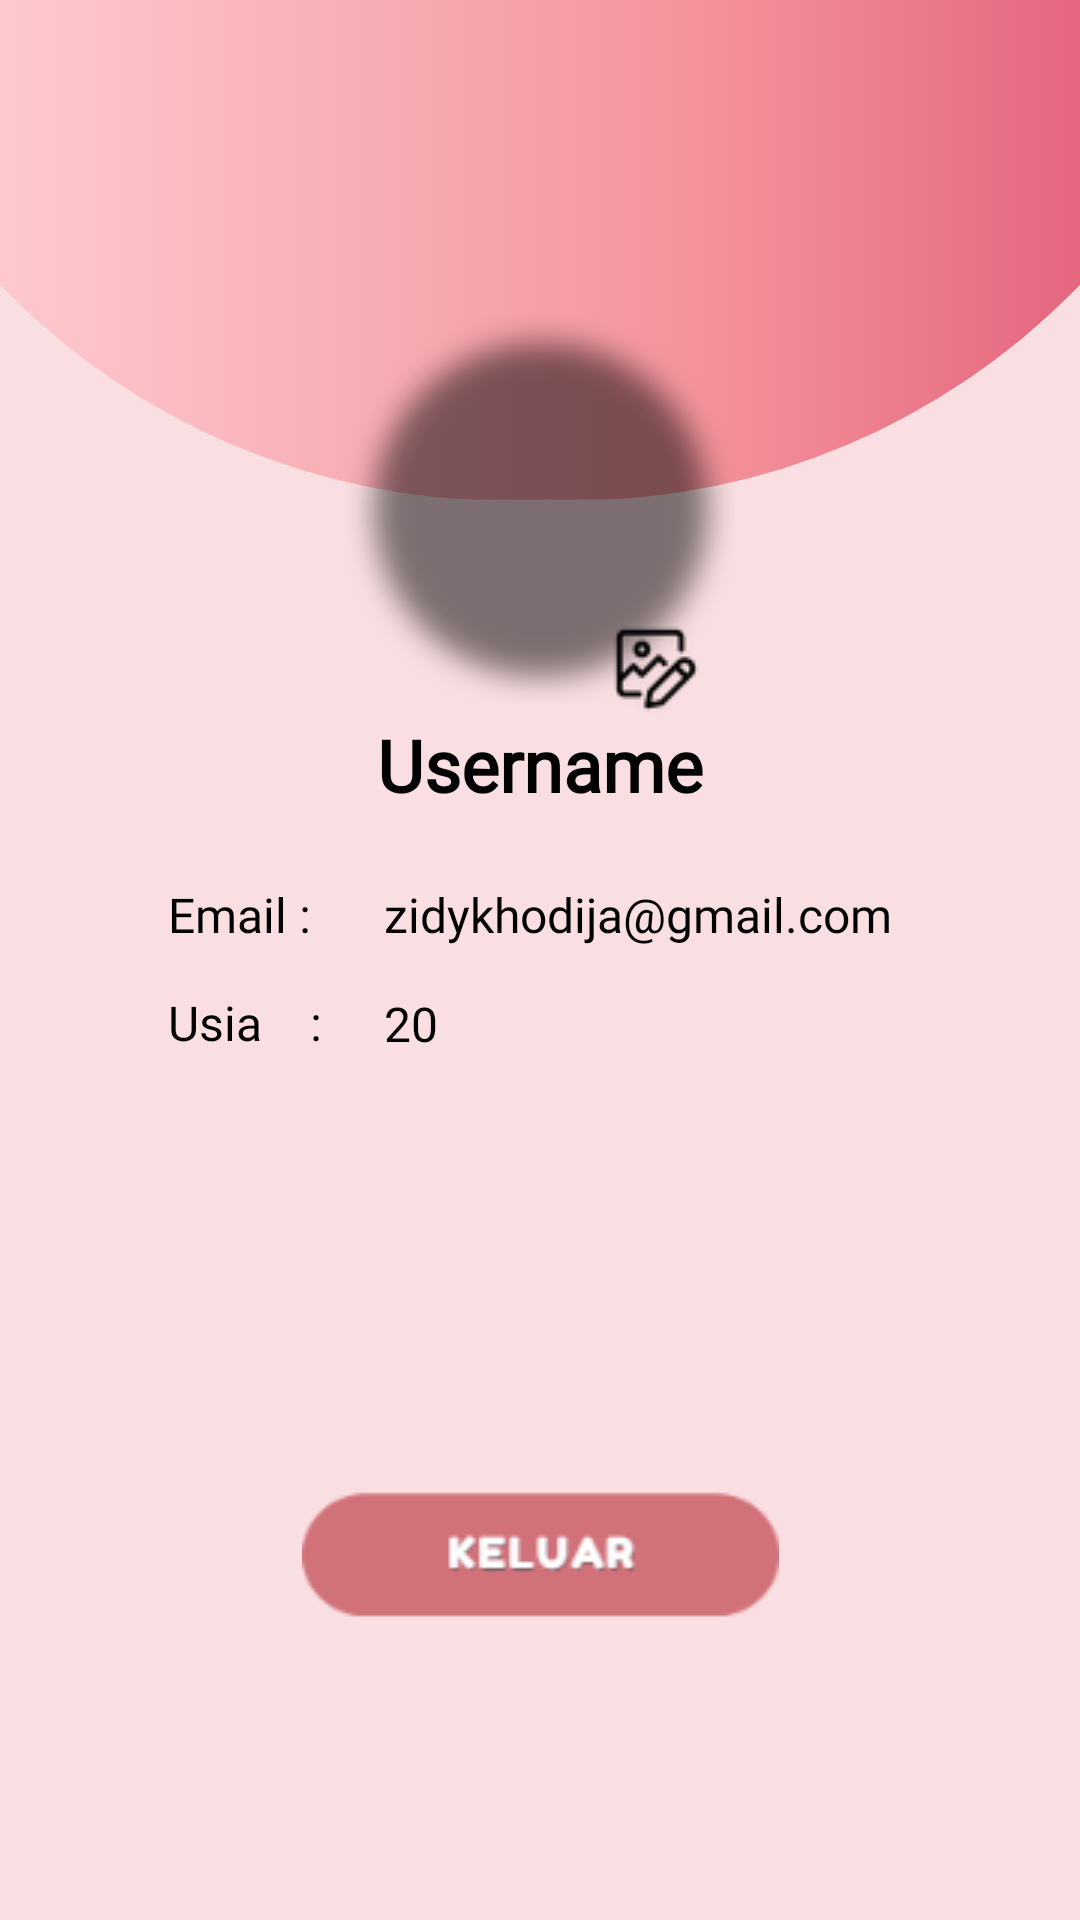

Screen size 1080px×1920px. Icon name, then its box in pixels as [left=x1, top=y1, right=x2, bottom=y2]:
edit: [left=611, top=624, right=697, bottom=710]
